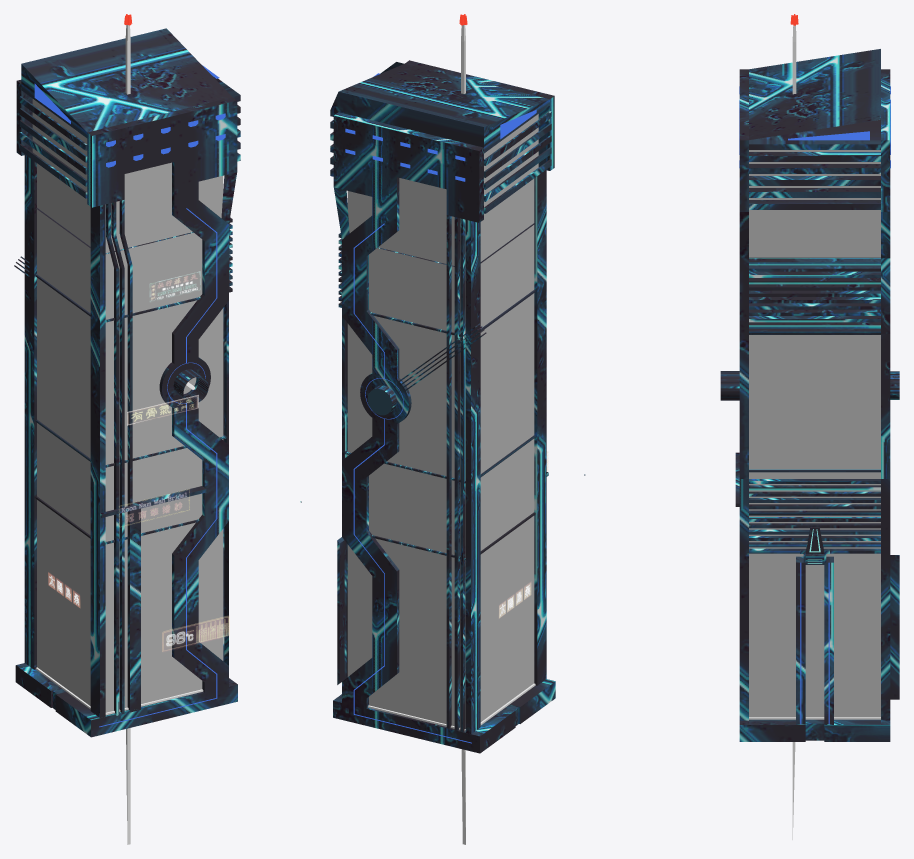
File: signedbuilding.gltf
3 renders of one model, left to right at view 1: azimuth 30°, elevation 25°; view 2: azimuth 150°, elevation 25°; view 3: azimuth 270°, elevation 25°, orthographic.
Parts seen in each view (by area): view 1: 0_curve_.036, 0_curve_, 0_curve_.037, Neon_4, 0_curve_.035, Plane.056, 0_curve_.016, Neon_3, Neon_5, Neon_2, Cube; view 2: 0_curve_, 0_curve_.037, 0_curve_.036, 0_curve_.034, Plane.056, 0_curve_.016, 0_curve_.038, 0_curve_.041, 0_curve_.043, 0_curve_.045, 0_curve_.044, Cube.001; view 3: 0_curve_, 0_curve_.036, 0_curve_.037, 0_curve_.014, 0_curve_.018, Plane.056.
Part boxes in pixels (x1,y1,x2,y2): 0_curve_.036: (19, 28, 240, 737); 0_curve_: (32, 99, 223, 712); 0_curve_.037: (14, 80, 61, 707); Neon_4: (162, 616, 229, 651); 0_curve_.035: (99, 208, 217, 727); Plane.056: (124, 14, 132, 844); 0_curve_.016: (21, 64, 87, 137); Neon_3: (119, 489, 189, 526); Neon_5: (149, 271, 200, 301); Neon_2: (127, 395, 198, 425); Cube: (106, 113, 225, 167); 0_curve_: (347, 114, 538, 728); 0_curve_.037: (333, 112, 515, 753); 0_curve_.036: (330, 60, 555, 723); 0_curve_.034: (353, 223, 471, 743); Plane.056: (459, 14, 467, 844); 0_curve_.016: (484, 99, 549, 153); 0_curve_.038: (367, 389, 392, 415); 0_curve_.041: (368, 683, 535, 731); 0_curve_.043: (372, 512, 535, 560); 0_curve_.045: (370, 290, 535, 337); 0_curve_.044: (344, 435, 535, 483); Cube.001: (345, 128, 465, 181); 0_curve_: (749, 150, 880, 717); 0_curve_.036: (720, 49, 880, 741); 0_curve_.037: (800, 69, 899, 741); 0_curve_.014: (749, 119, 880, 144); 0_curve_.018: (824, 562, 833, 724); Plane.056: (790, 14, 798, 839).
Bounding box in the file's own units: 3.45 × 16.56 × 5.71.
